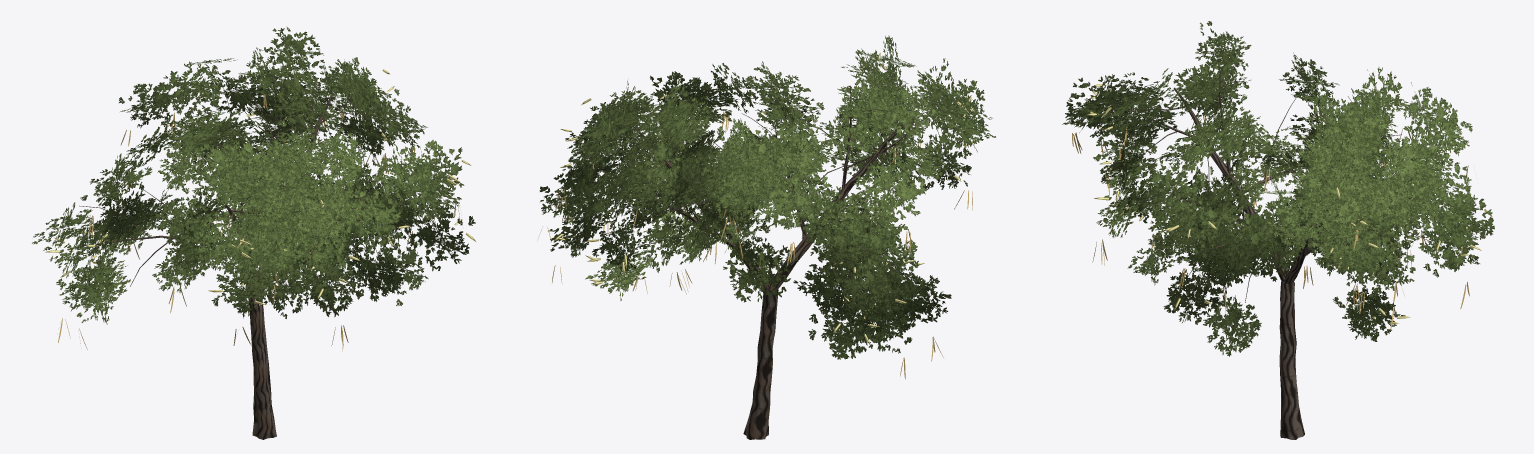
Rendered from young-b.lod0.glb.
3 renders of one model, left to right at view 1: azimuth 30°, elevation 25°; view 2: azimuth 150°, elevation 25°; view 3: azimuth 270°, elevation 25°, orthographic.
Visible parts, largest first — view 1: foliage, bark, fruit, flowers; view 2: foliage, bark, fruit, flowers; view 3: foliage, bark, fruit, flowers.
Part boxes in pixels (x1,y1,x2,y2): foliage: (32,26,475,324); bark: (79,74,426,439); fruit: (58,89,462,351); flowers: (45,69,475,305); foliage: (539,35,995,359); bark: (586,73,939,439); fruit: (538,111,972,379); flowers: (553,53,976,345); foliage: (1062,21,1494,356); bark: (1108,63,1437,439); fruit: (1072,107,1469,329); flowers: (1081,84,1492,324).
Size of the model in its own units: 4.21 by 3.8 by 4.42.
5 materials, 2 textured.
